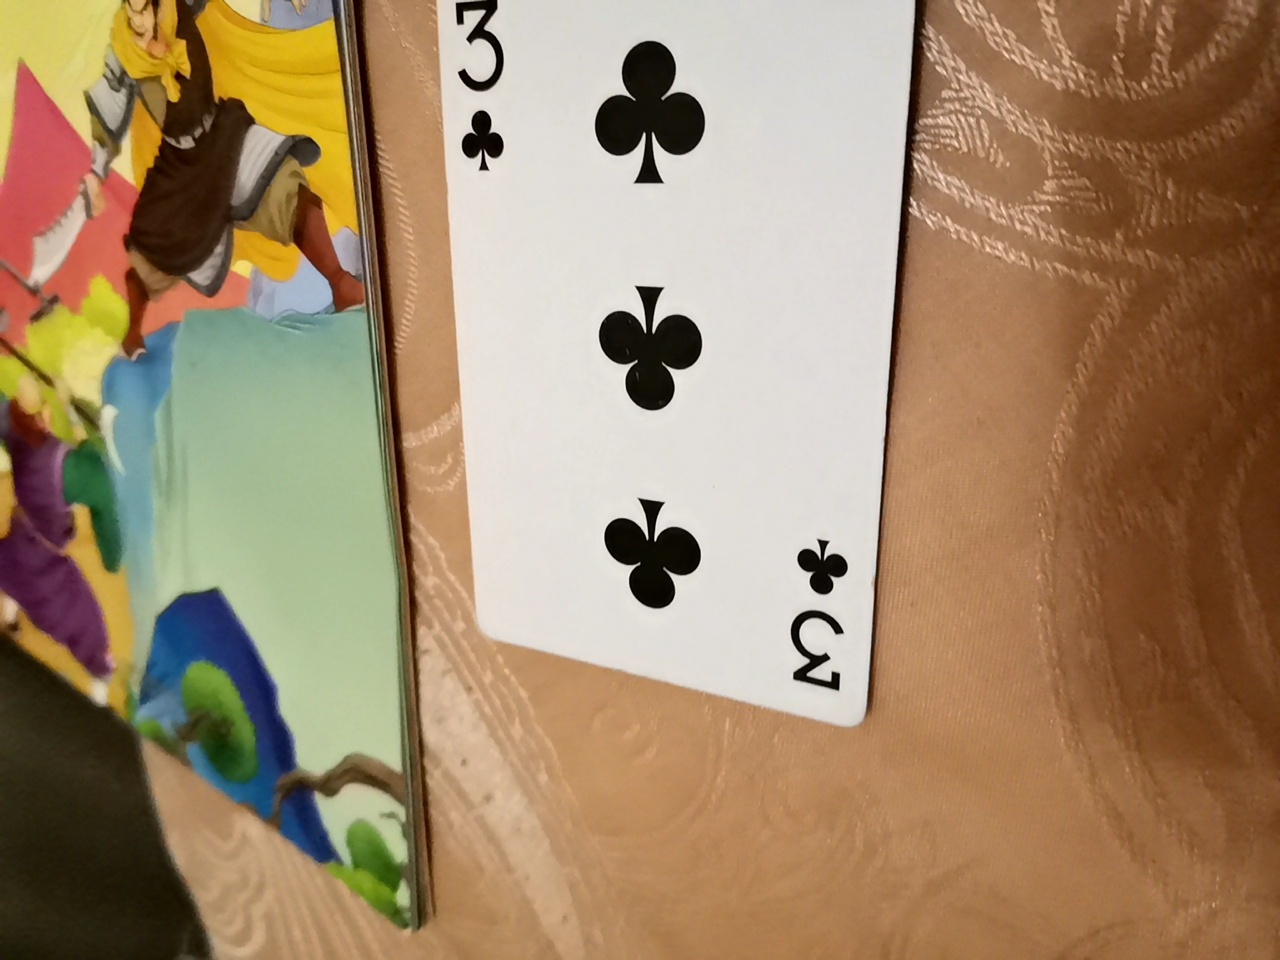mh 3: (452, 2, 928, 733)
